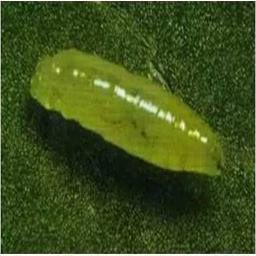liriomyza: (29, 46, 224, 177)
